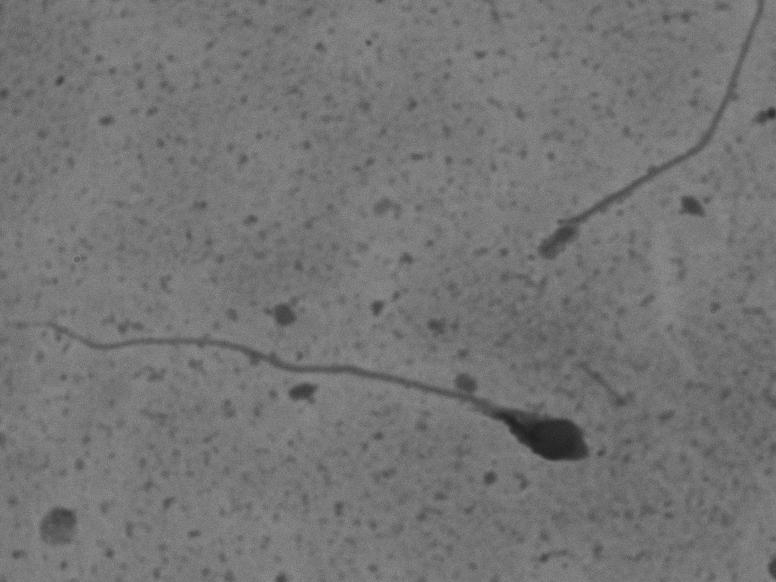Abnormal: (25, 273, 617, 501), (503, 38, 759, 281)
